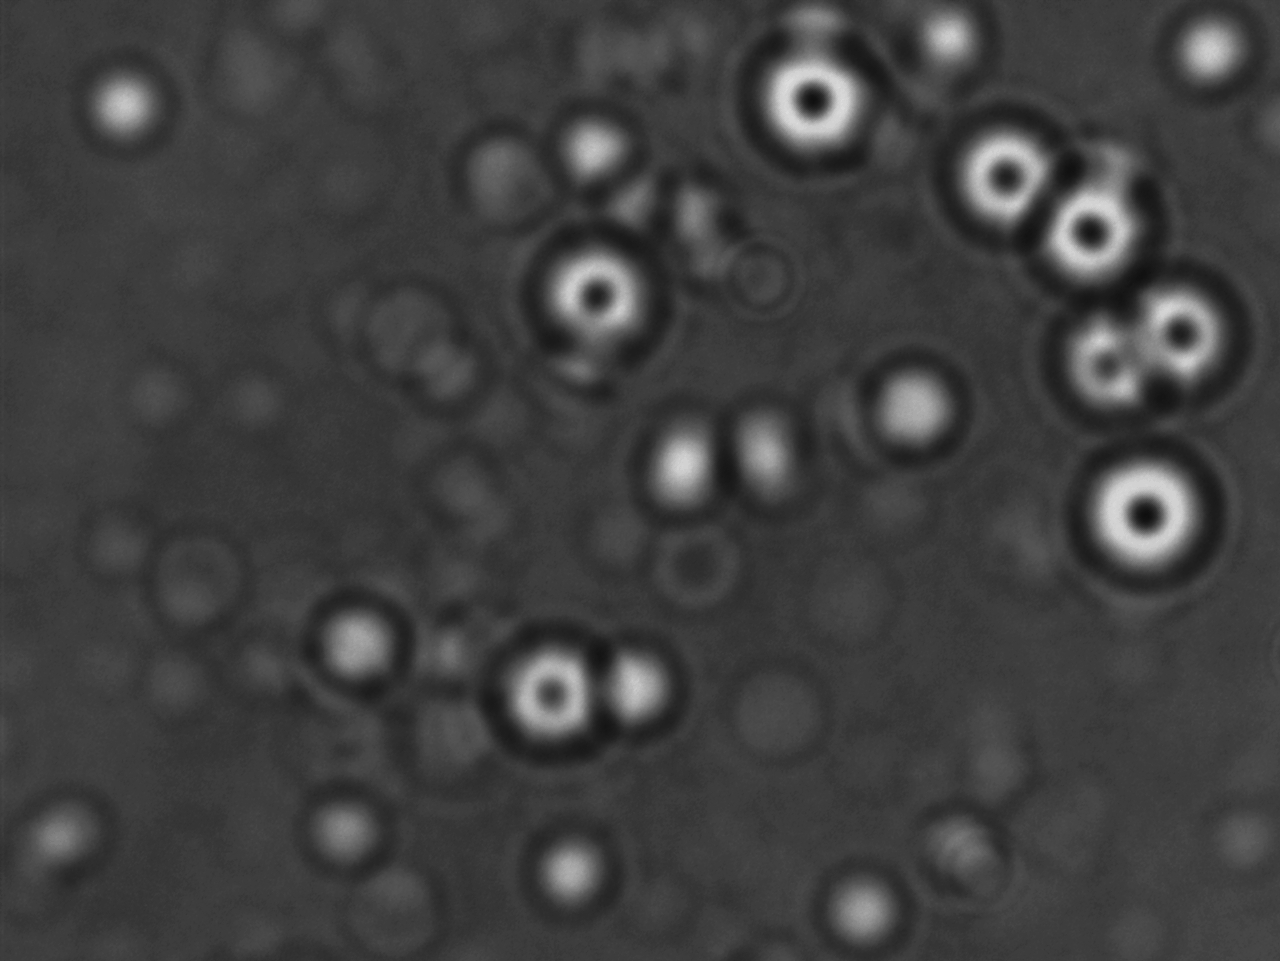depth:32: (1070, 422, 1240, 596), (513, 218, 669, 366), (735, 26, 889, 176), (477, 619, 629, 766), (940, 112, 1079, 252), (1035, 290, 1172, 425), (1034, 166, 1162, 295), (1127, 273, 1250, 400)
